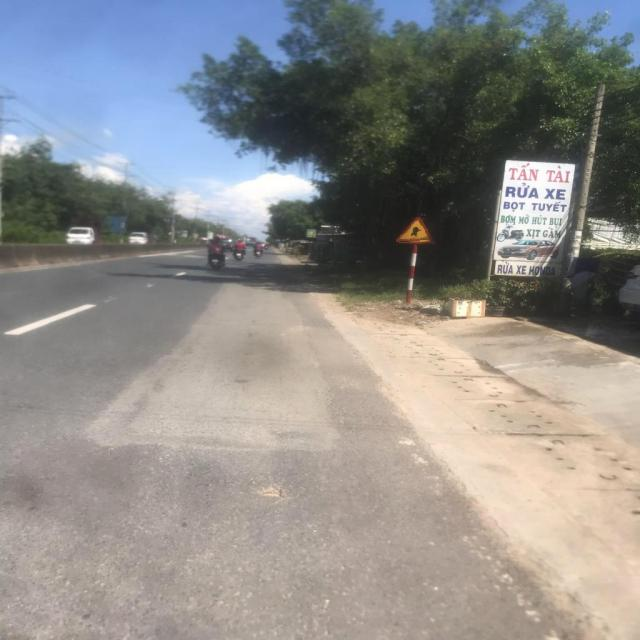giao_nhau_voi_duong_khong_uu_tien: (396, 218, 437, 244)
